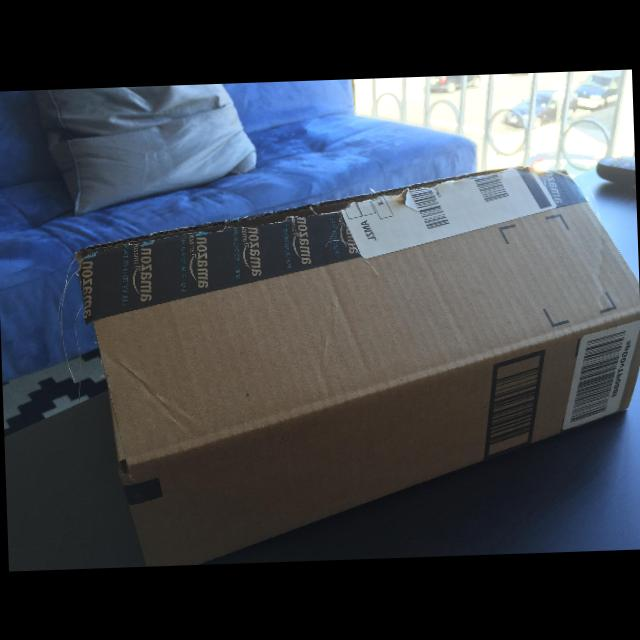box: (71, 159, 640, 568)
